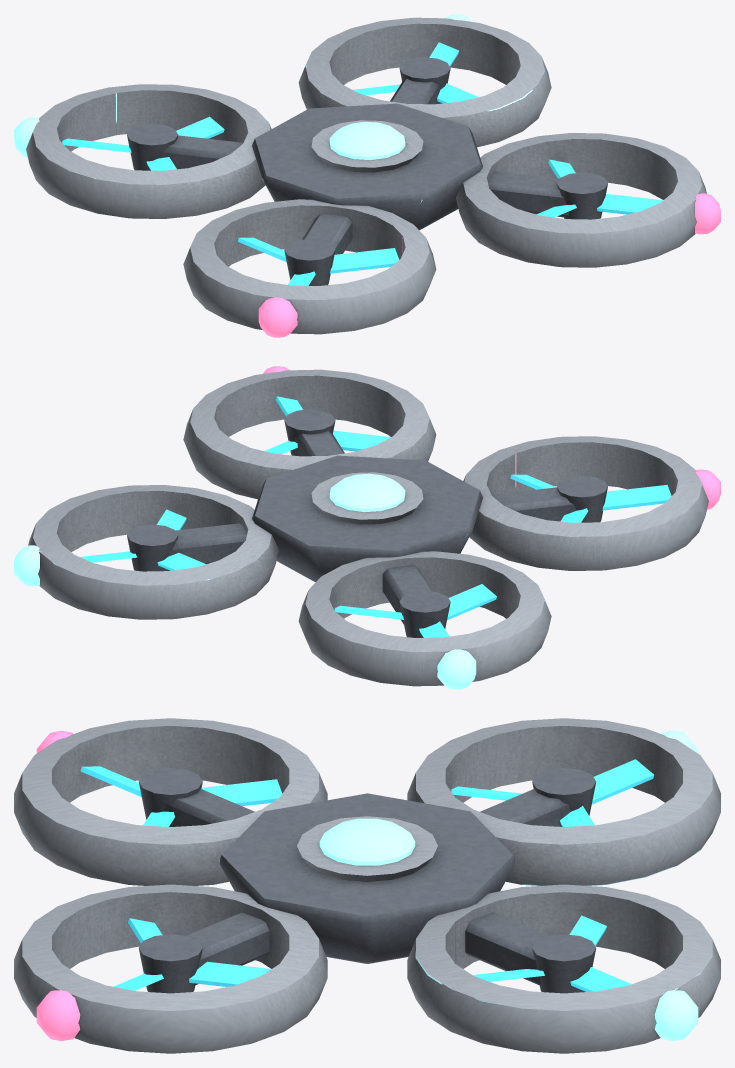
The model's file is Boomerang_72.fbx.
The picture shows the model from 3 angles, top to bottom: view 1: azimuth 30°, elevation 25°; view 2: azimuth 150°, elevation 25°; view 3: azimuth 270°, elevation 25°; orthographic projection. The views are drawn at different scales.
Visible parts, largest first — view 1: Boomerang_72; view 2: Boomerang_72; view 3: Boomerang_72.
Boxes of the visible parts, x1,y1,x2,y2 form: Boomerang_72: [14, 14, 720, 337]; Boomerang_72: [14, 366, 720, 689]; Boomerang_72: [14, 718, 720, 1053].
Size of the model in its own units: 200 by 36.47 by 199.
Materials: 1 (1 with a texture image).
